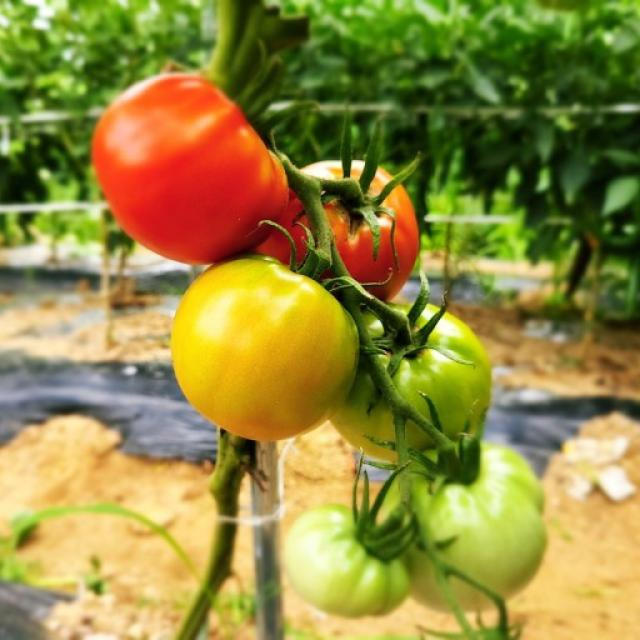level 1: (276, 494, 406, 621)
level 2: (378, 418, 564, 623), (307, 299, 532, 463)
level 3: (154, 244, 368, 474)
level 5: (248, 142, 452, 310)
level 6: (85, 65, 294, 265)
